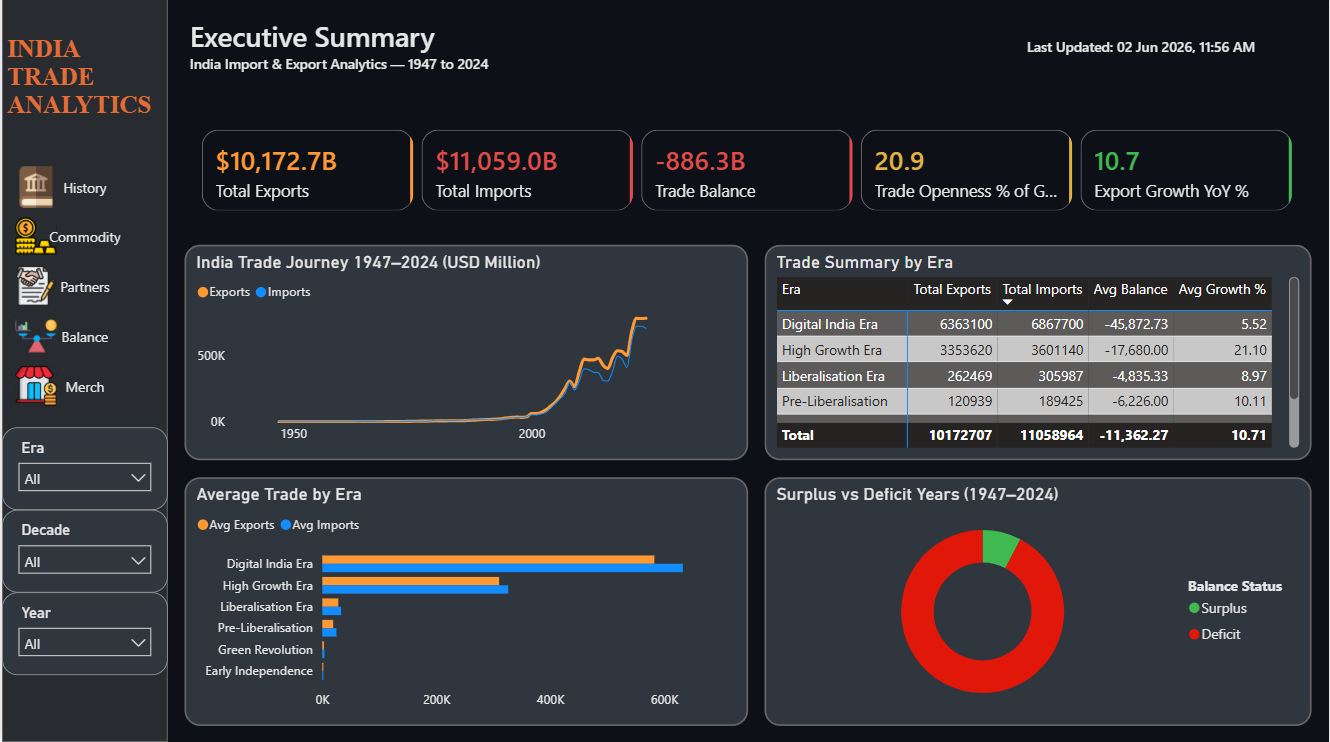

Layout of this report page (visuals, bound fields, positions):
{"tool":"powerbi","page":{"name":"Executive Summary","canvas":[1280,720],"ordinal":0},"visuals":[{"type":"cardVisual","fields":{"Data":["MeasuresTable.Exports Label","MeasuresTable.Imports Label","MeasuresTable.Balance Label","MeasuresTable.Trade Openness %","MeasuresTable.Export Growth YoY %"]},"box":[176,112,1088,112],"z":0},{"type":"lineChart","title":"India Trade Journey 1947–2024 (USD Million)","fields":{"Y":["Sum(vw_TradeSummary.exports_usd_million)"],"Y2":["Sum(vw_TradeSummary.imports_usd_million)"],"Category":["vw_TradeSummary.year"]},"box":[176,240,544,208],"z":1000},{"type":"clusteredBarChart","title":"Average Trade by Era","fields":{"Y":["Avg(vw_DecadeSummary.avg_exports_usd_m)","Avg(vw_DecadeSummary.avg_imports_usd_m)"],"Category":["vw_TradeSummary.era"]},"box":[176,464,544,240],"z":2000},{"type":"donutChart","title":"Surplus vs Deficit Years (1947–2024)","fields":{"Category":["vw_TradeSummary.balance_status"],"Y":["CountNonNull(vw_TradeSummary.year)"]},"box":[736,464,528,240],"z":3000},{"type":"pivotTable","title":"Trade Summary by Era","fields":{"Rows":["vw_TradeSummary.era"],"Values":["Sum(vw_TradeSummary.exports_usd_million)","Sum(vw_TradeSummary.imports_usd_million)","Avg(vw_TradeSummary.trade_balance_usd_million)","Avg(vw_TradeSummary.export_growth_yoy_pct)"]},"box":[736,240,528,208],"z":4000},{"type":"textbox","box":[176,16,352,80],"z":5000},{"type":"shape","box":[0,0,160,720],"z":6000},{"type":"actionButton","box":[0,160,160,48],"z":7000},{"type":"actionButton","box":[0,208,160,48],"z":8000},{"type":"actionButton","box":[0,304,160,48],"z":9000},{"type":"actionButton","box":[0,256,160,48],"z":10000},{"type":"actionButton","box":[0,352,160,48],"z":11000},{"type":"textbox","box":[0,32,160,128],"z":12000},{"type":"cardVisual","fields":{"Data":["MeasuresTable.Last Refreshed"]},"box":[960,16,288,64],"z":13000},{"type":"slicer","fields":{"Values":["vw_TradeSummary.era"]},"box":[0,416,160,80],"z":13001},{"type":"slicer","fields":{"Values":["vw_TradeSummary.decade"]},"box":[0,496,160,80],"z":13002},{"type":"slicer","fields":{"Values":["vw_TradeSummary.year"]},"box":[0,576,160,80],"z":13003}]}

Visuals, with their boxes on the page's 1280x720 design canvas (x1, y1, x2, y2). These are canvas units, not pixel positions in the 1330x742 screenshot, which may show the page scaled, cropped or inside an application window:
cardVisual - MeasuresTable.Exports Label x MeasuresTable.Imports Label: (left=176, top=112, right=1264, bottom=224)
"India Trade Journey 1947–2024 (USD Million)" lineChart: (left=176, top=240, right=720, bottom=448)
"Average Trade by Era" clusteredBarChart: (left=176, top=464, right=720, bottom=704)
"Surplus vs Deficit Years (1947–2024)" donutChart: (left=736, top=464, right=1264, bottom=704)
"Trade Summary by Era" pivotTable: (left=736, top=240, right=1264, bottom=448)
textbox: (left=176, top=16, right=528, bottom=96)
shape: (left=0, top=0, right=160, bottom=720)
actionButton: (left=0, top=160, right=160, bottom=208)
actionButton: (left=0, top=208, right=160, bottom=256)
actionButton: (left=0, top=304, right=160, bottom=352)
actionButton: (left=0, top=256, right=160, bottom=304)
actionButton: (left=0, top=352, right=160, bottom=400)
textbox: (left=0, top=32, right=160, bottom=160)
cardVisual - MeasuresTable.Last Refreshed: (left=960, top=16, right=1248, bottom=80)
slicer - vw_TradeSummary.era: (left=0, top=416, right=160, bottom=496)
slicer - vw_TradeSummary.decade: (left=0, top=496, right=160, bottom=576)
slicer - vw_TradeSummary.year: (left=0, top=576, right=160, bottom=656)
